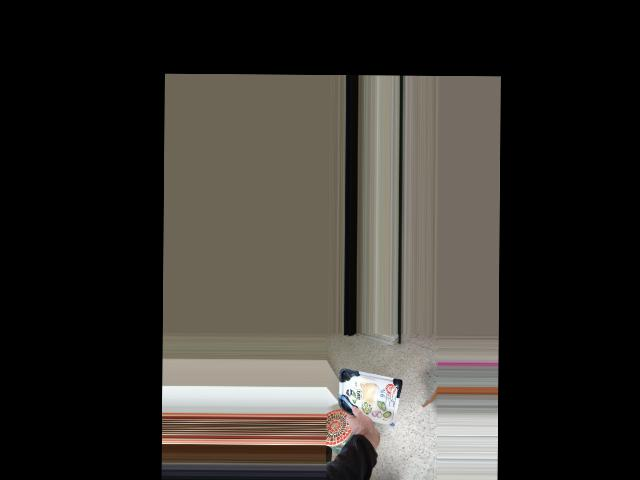cheese: (348, 385, 396, 435)
